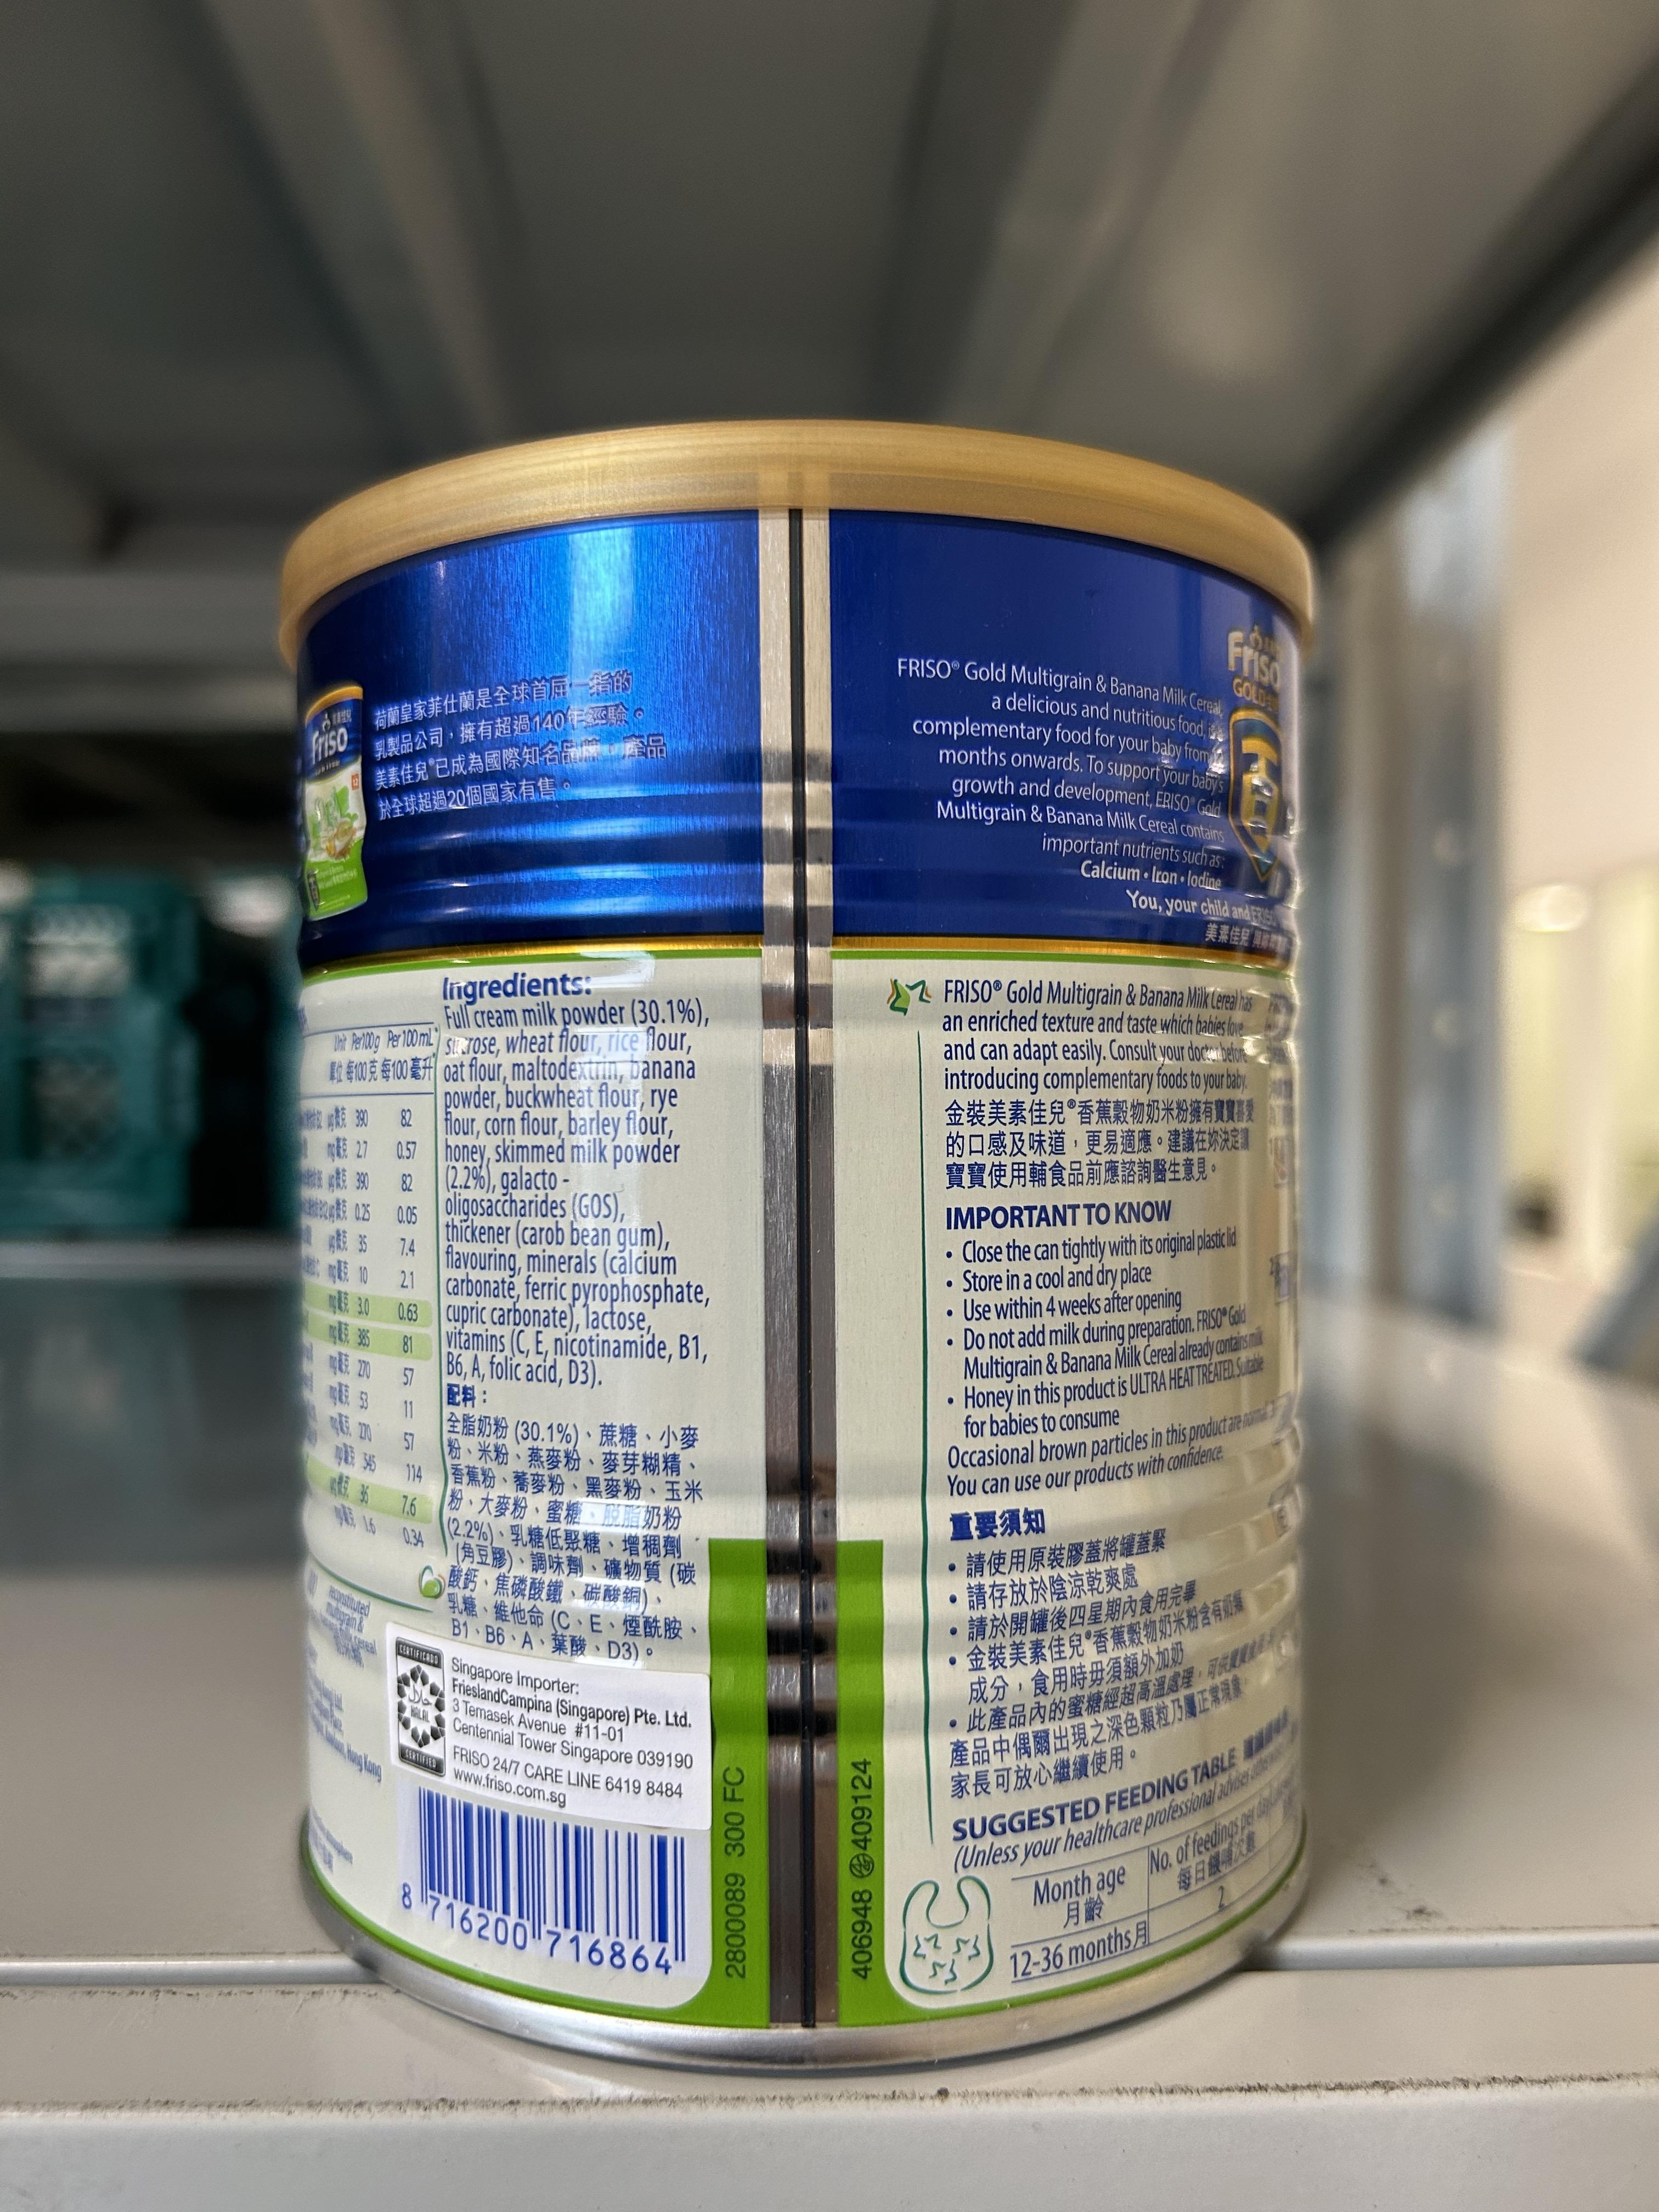object_name: (312, 552, 1295, 1933)
